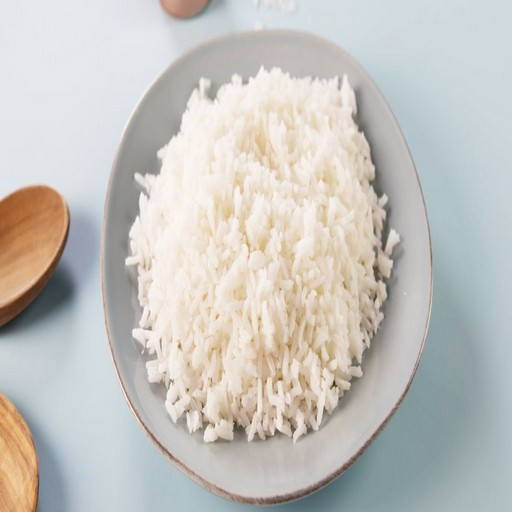rice: (192, 116, 322, 412)
